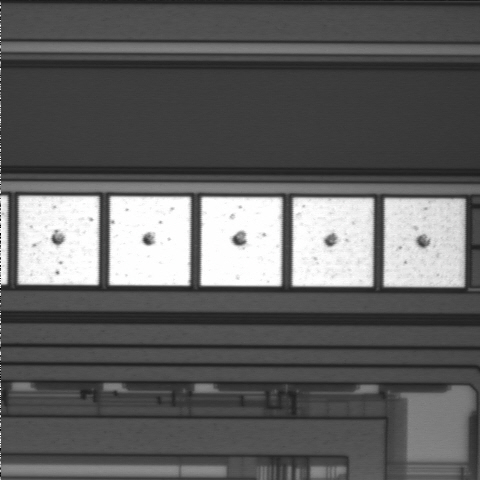pad: (109, 196, 191, 286), (18, 196, 99, 285), (201, 197, 282, 286), (292, 198, 373, 287), (384, 198, 465, 287)
